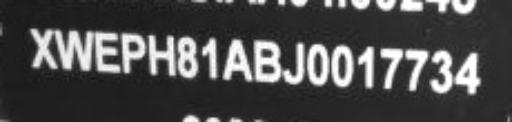letter: (53, 27, 95, 74), (146, 30, 180, 80), (452, 48, 484, 98), (250, 37, 284, 83), (220, 37, 254, 81), (427, 46, 455, 96), (28, 26, 60, 69), (403, 46, 431, 93), (118, 30, 146, 76), (174, 34, 202, 80), (93, 29, 121, 74), (280, 39, 306, 87), (305, 40, 331, 86), (329, 42, 355, 88), (378, 46, 404, 92), (356, 41, 378, 91), (200, 34, 220, 80)
